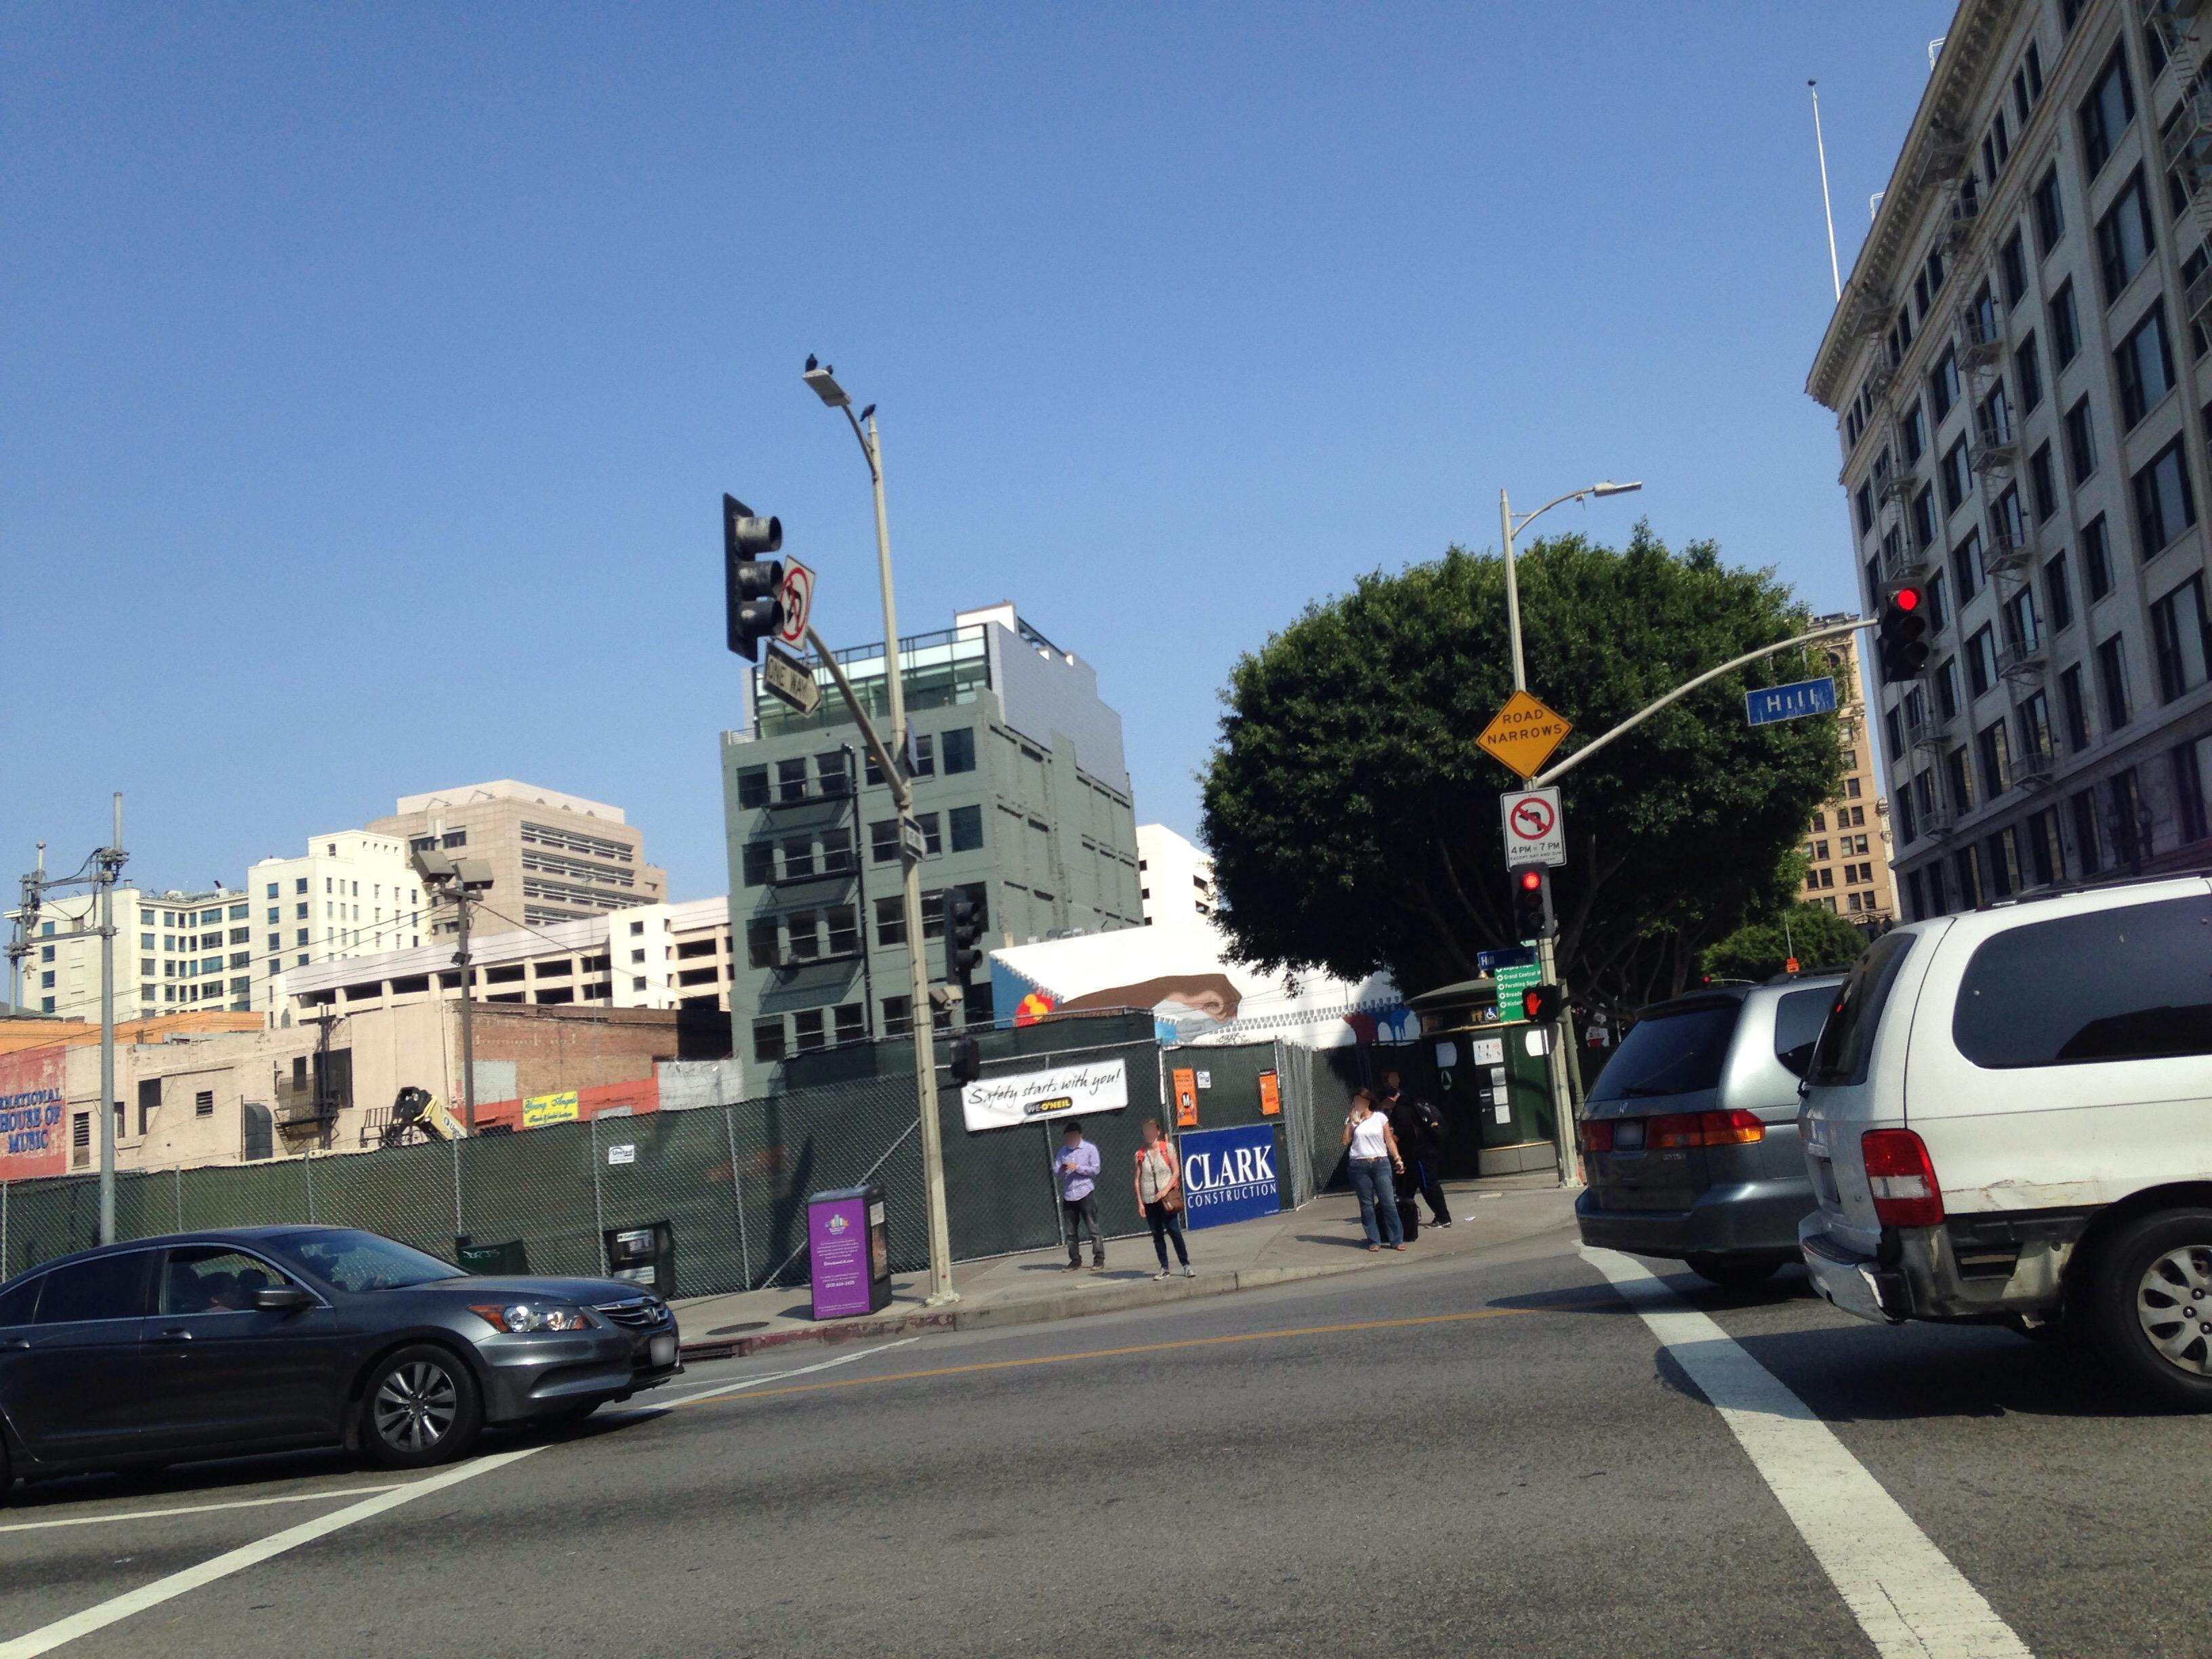vinyl banner: (958, 1047, 1134, 1148), (1162, 1119, 1303, 1227)
